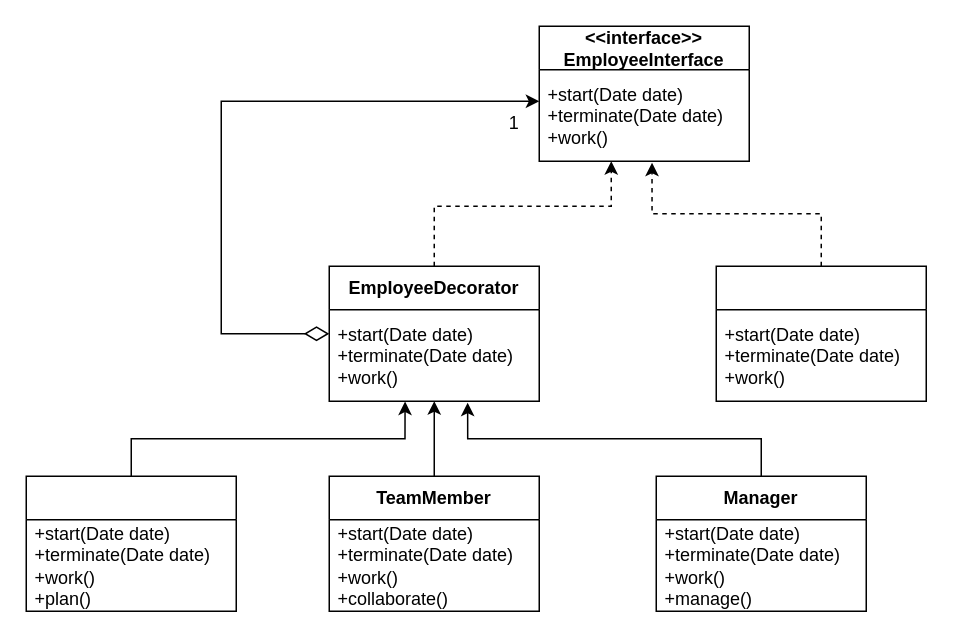
This 953x638 diagram has some shape labels left out. Here are the shapes that lost their labels. From the top down, the box of each, then its label:
(715, 265, 926, 401): Employee
(25, 475, 236, 611): TeamLeader
